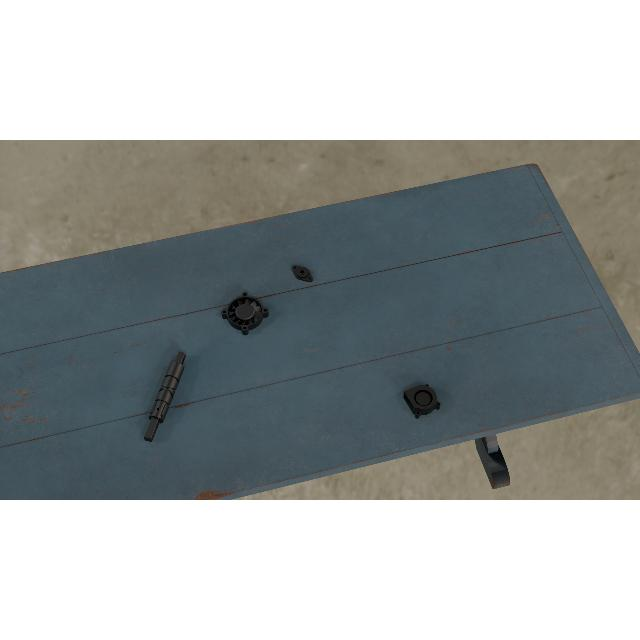Pieza1: (140, 349, 190, 445)
Pieza2: (288, 260, 316, 286)
Pieza3: (403, 380, 442, 420)
Pieza4: (220, 290, 270, 338)
